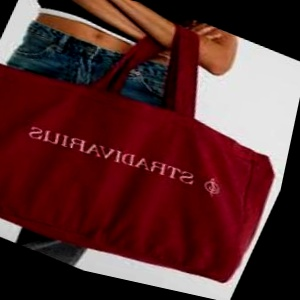stradivarius: (199, 84, 269, 213)
